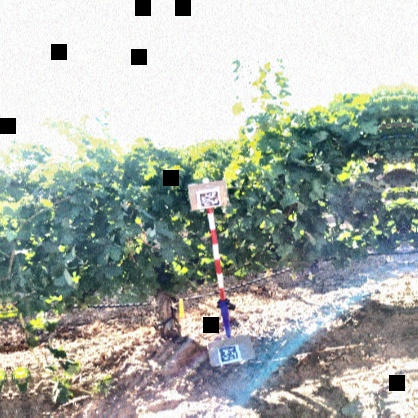QR: (200, 191, 222, 209), (219, 346, 241, 363)
